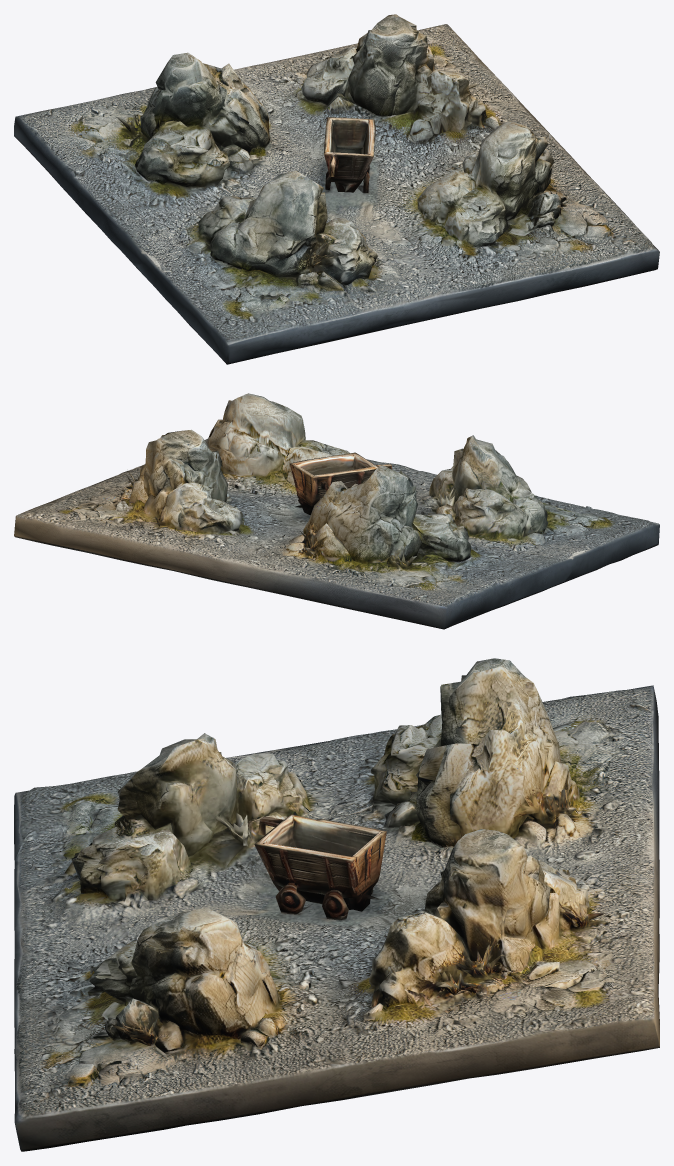
Rendered from pilot_stone.glb.
3 renders of one model, top to bottom at view 1: azimuth 30°, elevation 25°; view 2: azimuth 150°, elevation 25°; view 3: azimuth 270°, elevation 25°, orthographic. The views are drawn at different scales.
Visible parts, largest first — view 1: tripo_part_0, tripo_part_1, tripo_part_4, tripo_part_3, tripo_part_5, tripo_part_6, tripo_part_8, tripo_part_2, tripo_part_7, tripo_part_16, tripo_part_12, tripo_part_13 (+2 smaller); view 2: tripo_part_0, tripo_part_3, tripo_part_1, tripo_part_5, tripo_part_4, tripo_part_16, tripo_part_2, tripo_part_6, tripo_part_9, tripo_part_15, tripo_part_12, tripo_part_14 (+2 smaller); view 3: tripo_part_0, tripo_part_3, tripo_part_1, tripo_part_5, tripo_part_2, tripo_part_4, tripo_part_7, tripo_part_8, tripo_part_6, tripo_part_15, tripo_part_9, tripo_part_13 (+8 smaller).
Boxes of the visible parts, x1,y1,x2,y2 form: tripo_part_0: (14, 24, 659, 364); tripo_part_1: (417, 120, 554, 247); tripo_part_4: (210, 170, 327, 277); tripo_part_3: (140, 52, 269, 156); tripo_part_5: (344, 14, 434, 117); tripo_part_6: (135, 121, 229, 188); tripo_part_8: (405, 69, 488, 138); tripo_part_2: (324, 117, 375, 193); tripo_part_7: (312, 218, 377, 285); tripo_part_16: (301, 47, 356, 105); tripo_part_12: (222, 283, 289, 320); tripo_part_13: (553, 204, 598, 237); tripo_part_0: (14, 438, 659, 629); tripo_part_3: (303, 464, 422, 563); tripo_part_1: (206, 393, 349, 486); tripo_part_5: (140, 429, 227, 501); tripo_part_4: (450, 435, 548, 535); tripo_part_16: (156, 482, 243, 534); tripo_part_2: (289, 452, 392, 514); tripo_part_6: (413, 513, 470, 562); tripo_part_9: (85, 499, 145, 521); tripo_part_15: (452, 488, 485, 525); tripo_part_12: (545, 507, 610, 530); tripo_part_14: (134, 491, 169, 526); tripo_part_0: (14, 685, 659, 1151); tripo_part_3: (411, 658, 565, 847); tripo_part_1: (88, 907, 283, 1043); tripo_part_5: (424, 829, 553, 962); tripo_part_2: (254, 814, 386, 920); tripo_part_4: (114, 733, 237, 856); tripo_part_7: (71, 814, 202, 903); tripo_part_8: (367, 908, 471, 1008); tripo_part_6: (371, 714, 442, 806); tripo_part_15: (235, 765, 299, 821); tripo_part_9: (510, 929, 599, 988); tripo_part_13: (79, 1039, 157, 1076).
Size of the model in its own units: 0.9805 by 0.3778 by 0.8478.
27 materials, 27 textured.
